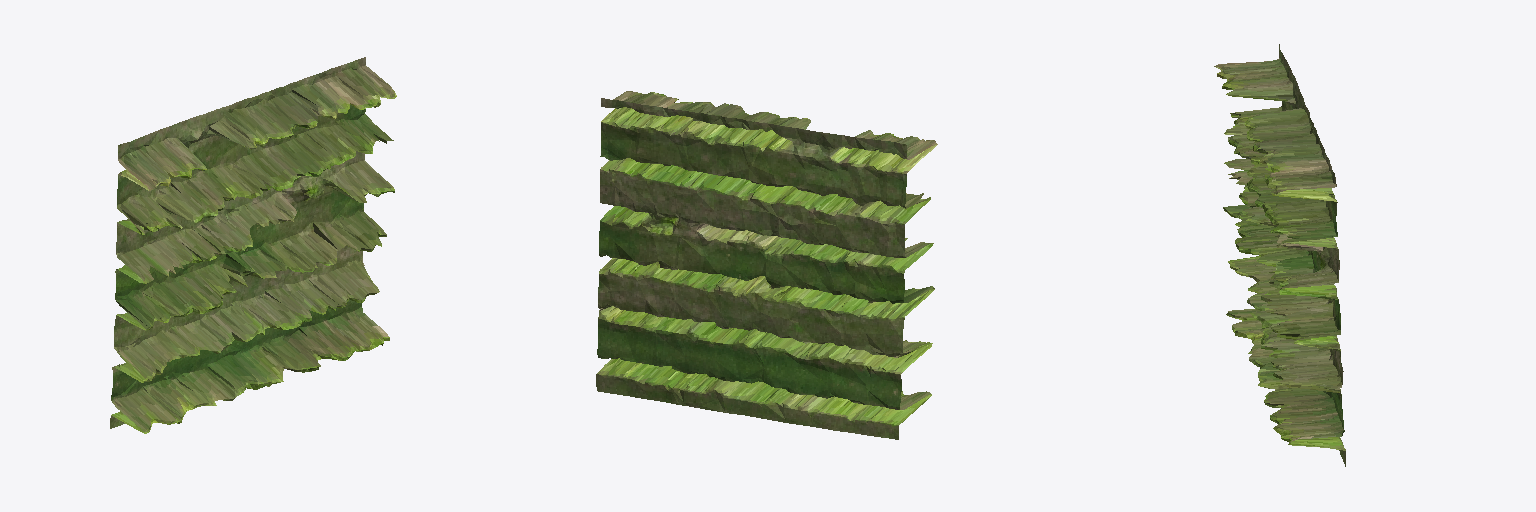
3 views of the same model, side by side, from view 1: azimuth 30°, elevation 25°; view 2: azimuth 150°, elevation 25°; view 3: azimuth 270°, elevation 25° (orthographic).
Parts seen in each view (by area): view 1: grp1; view 2: grp1; view 3: grp1.
Part boxes in pixels (x1,y1,x2,y2): grp1: (110,57,396,433); grp1: (596,91,937,439); grp1: (1214,44,1345,466).
Bounding box in the file's own units: 10 × 10 × 4.14.
Materials: 1 (1 with a texture image).